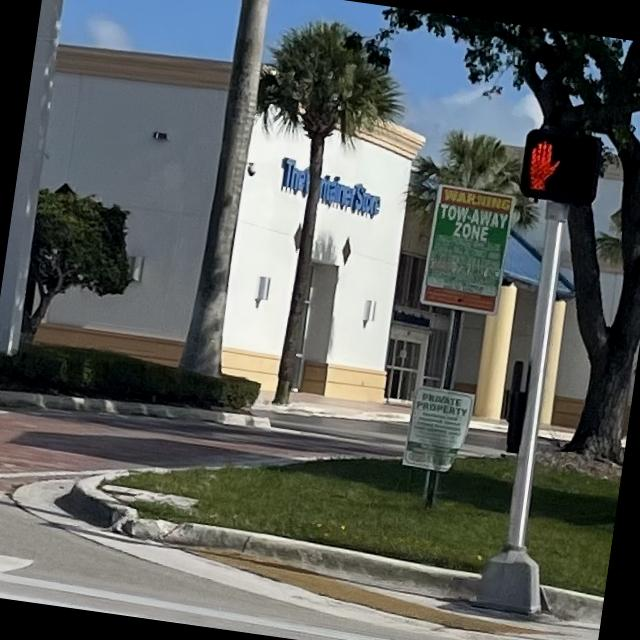curb: (59, 475, 479, 601), (541, 585, 601, 622)
